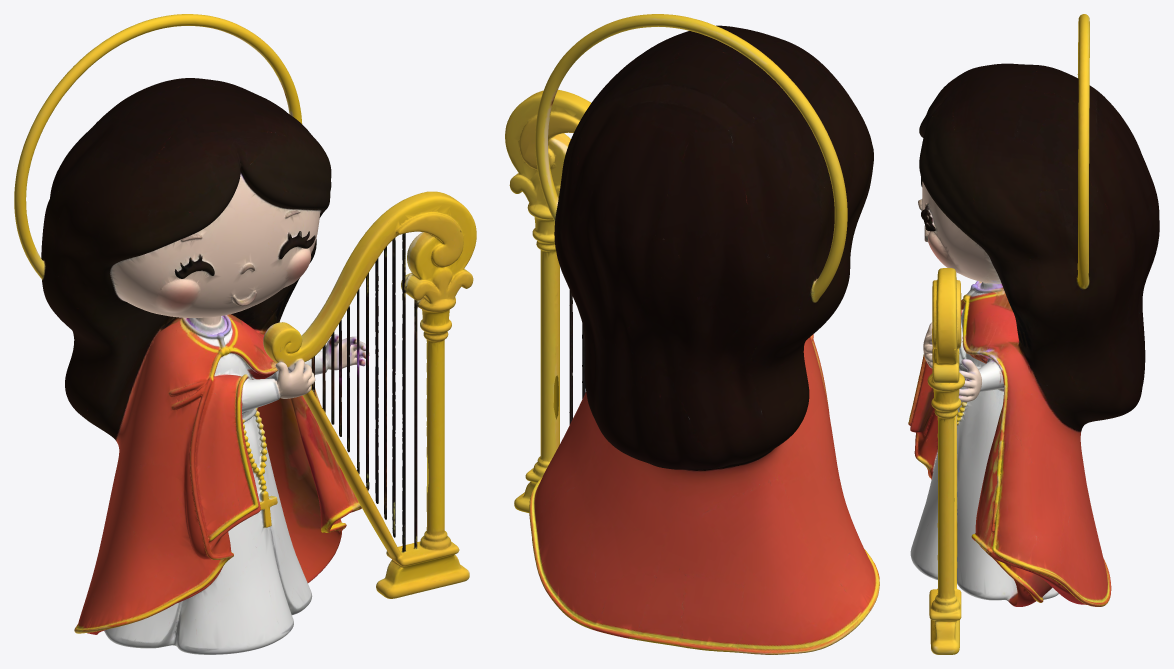
File: cecilia.glb
3 renders of one model, left to right at view 1: azimuth 30°, elevation 25°; view 2: azimuth 150°, elevation 25°; view 3: azimuth 270°, elevation 25°, orthographic. The views are drawn at different scales.
Bounding box in the file's own units: 1.33 × 1.9 × 0.8093.
Materials: 1 (1 with a texture image).
